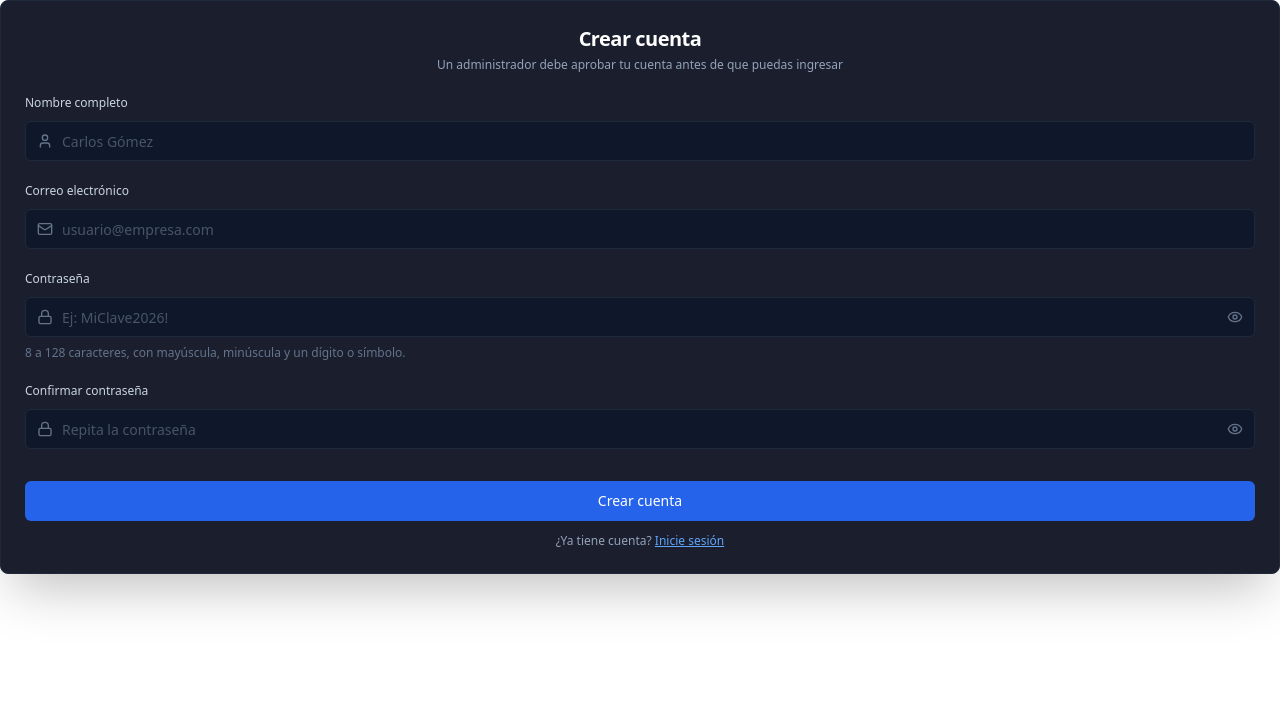
Scenario: SignupPage › maps API status 409 to a specific message
This screenshot has width=1280, height=720.
Type "Nuevo Usuario" into the field labelled "Nombre completo" at (640, 141), box [25,121,1255,161]
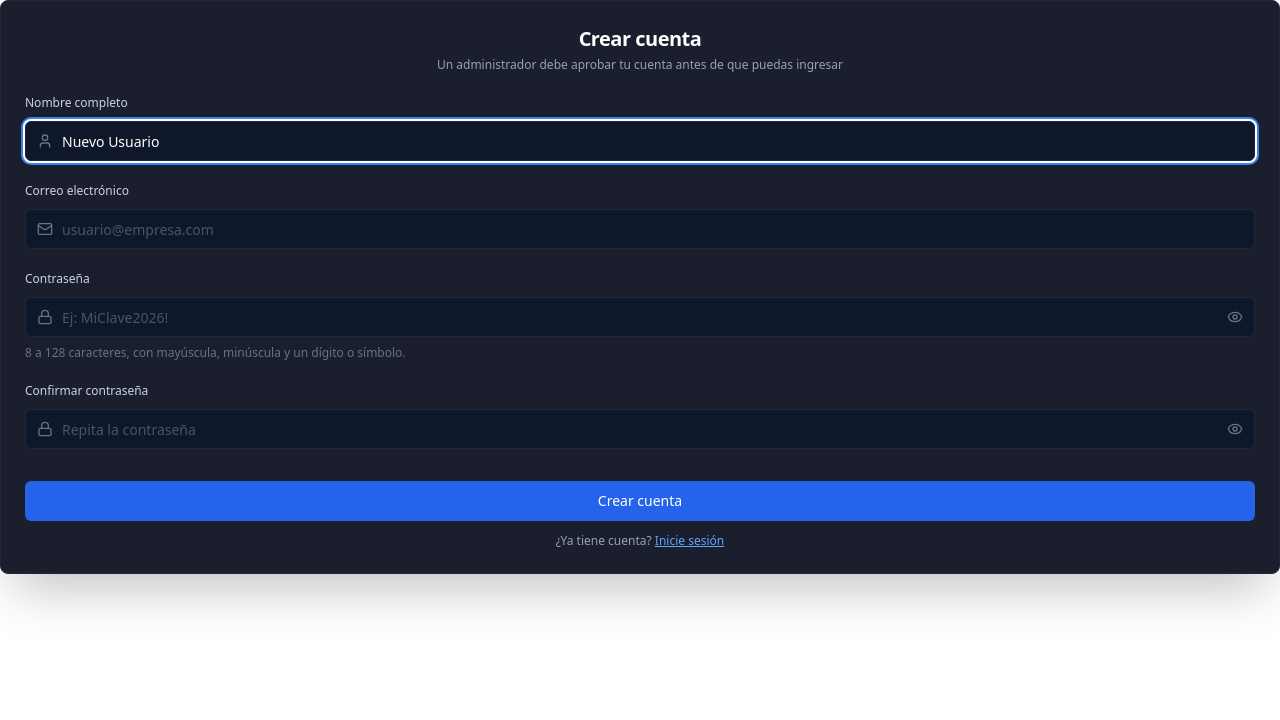
Type "nuevo@erp.com" into the field labelled "Correo electrónico" at (640, 229), box [25,209,1255,249]
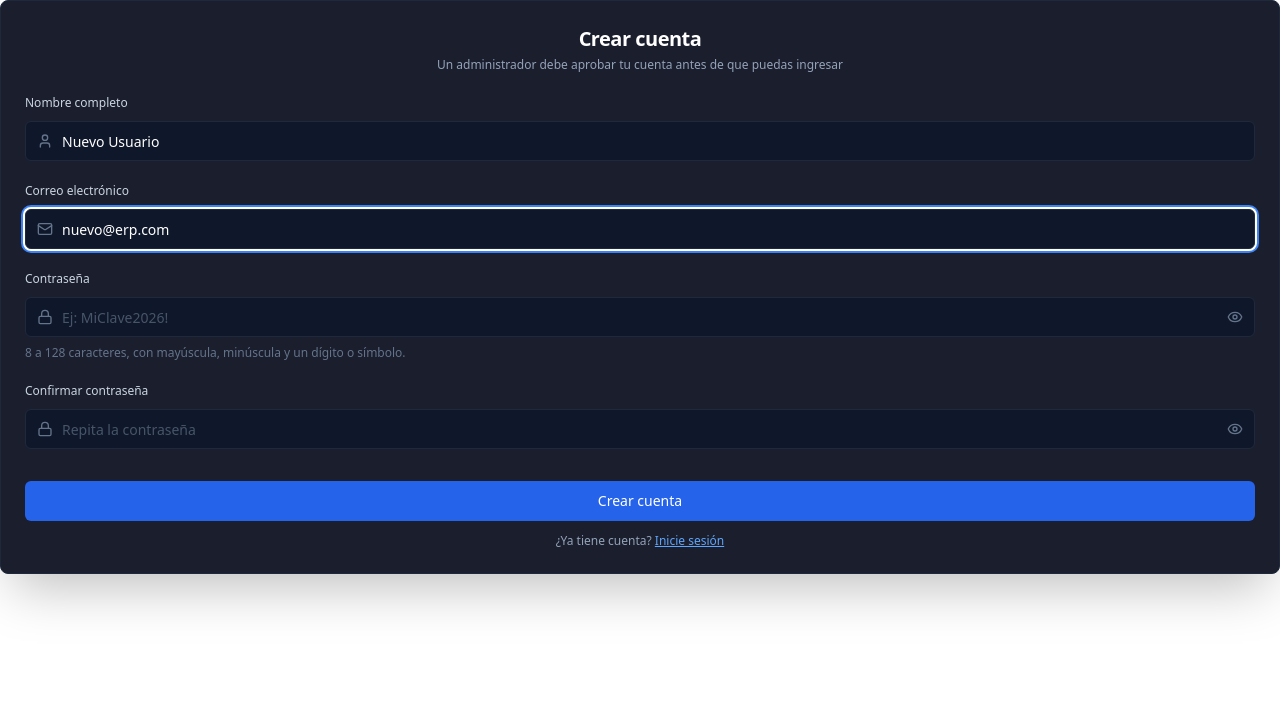
Type "Secret123!" into the password field labelled "Contraseña" at (640, 317), box [25,297,1255,337]
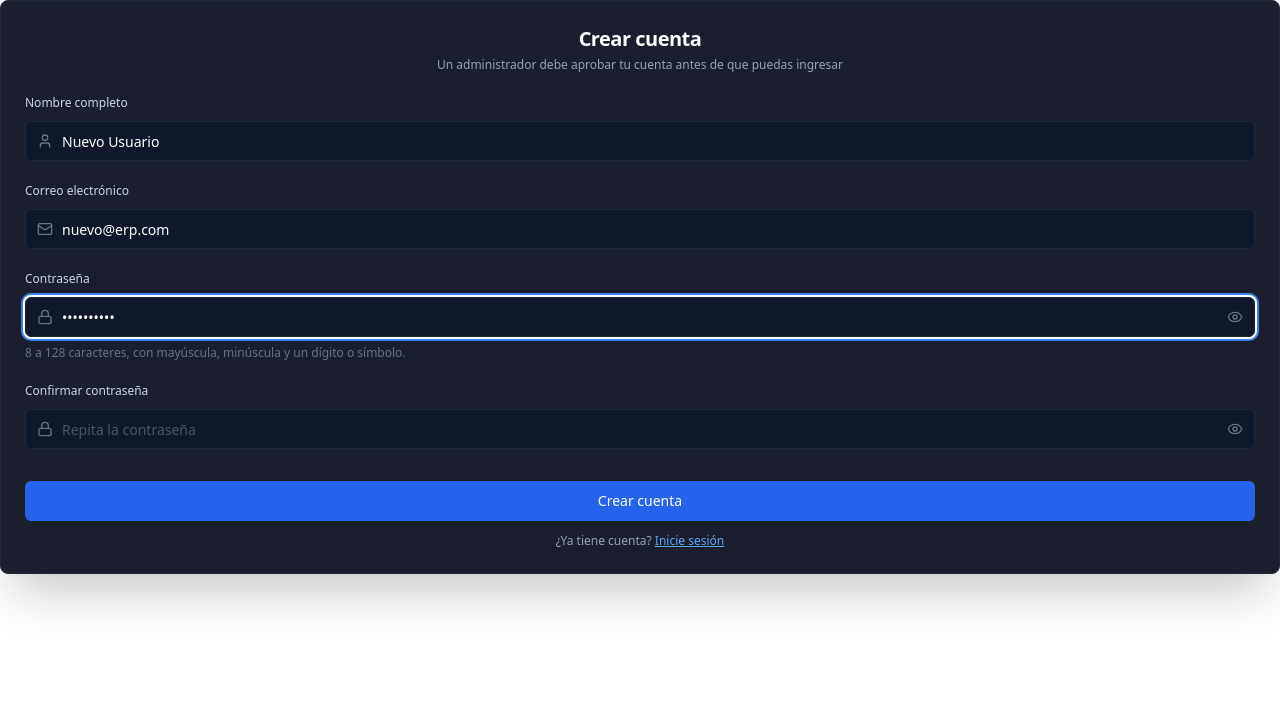
Type "Secret123!" into the password field labelled "Confirmar contraseña" at (640, 429), box [25,409,1255,449]
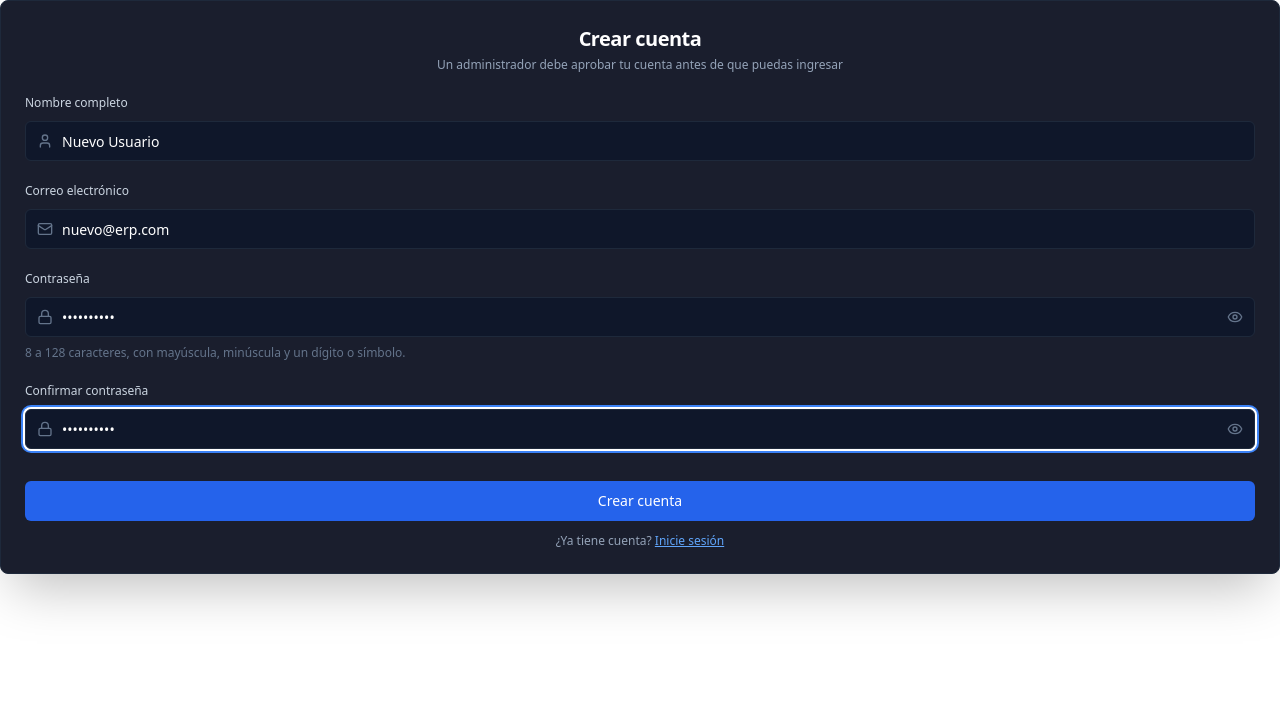
Click the button "Crear cuenta" at (640, 501), box [25,481,1255,521]
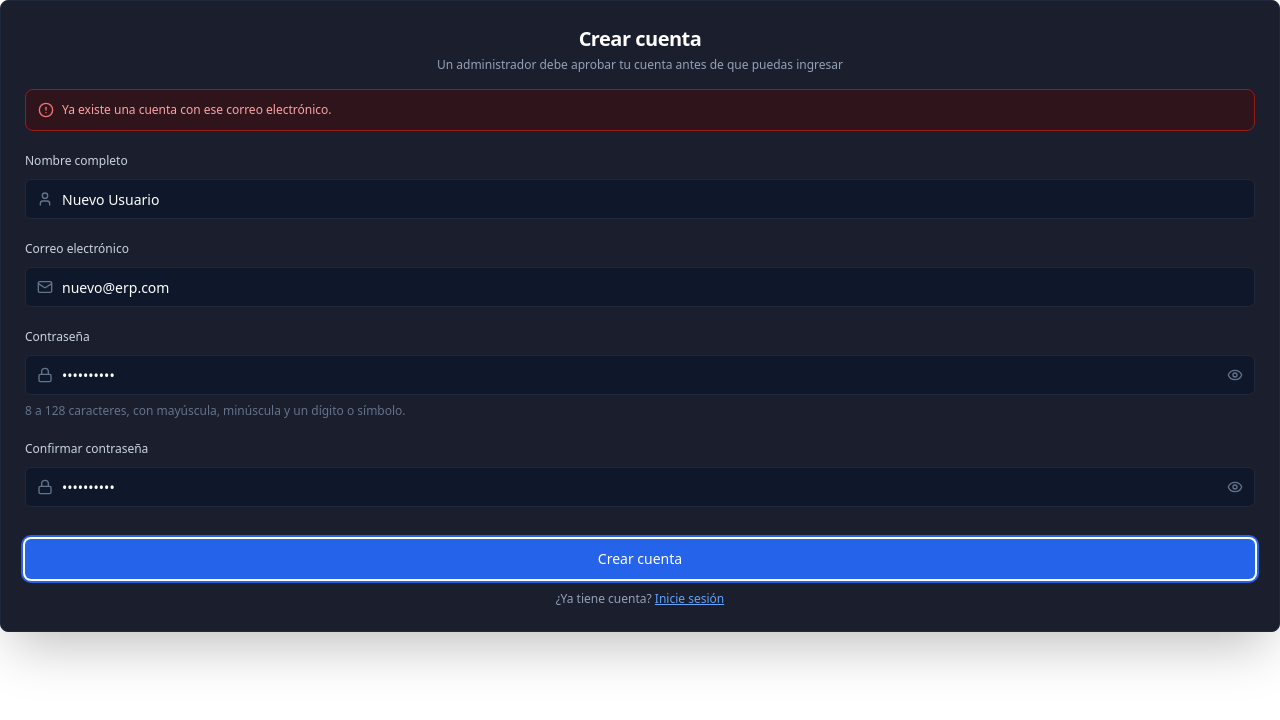
Now the text "Ya existe una cuenta con ese correo electrónico." is shown, box [62,102,332,118]
